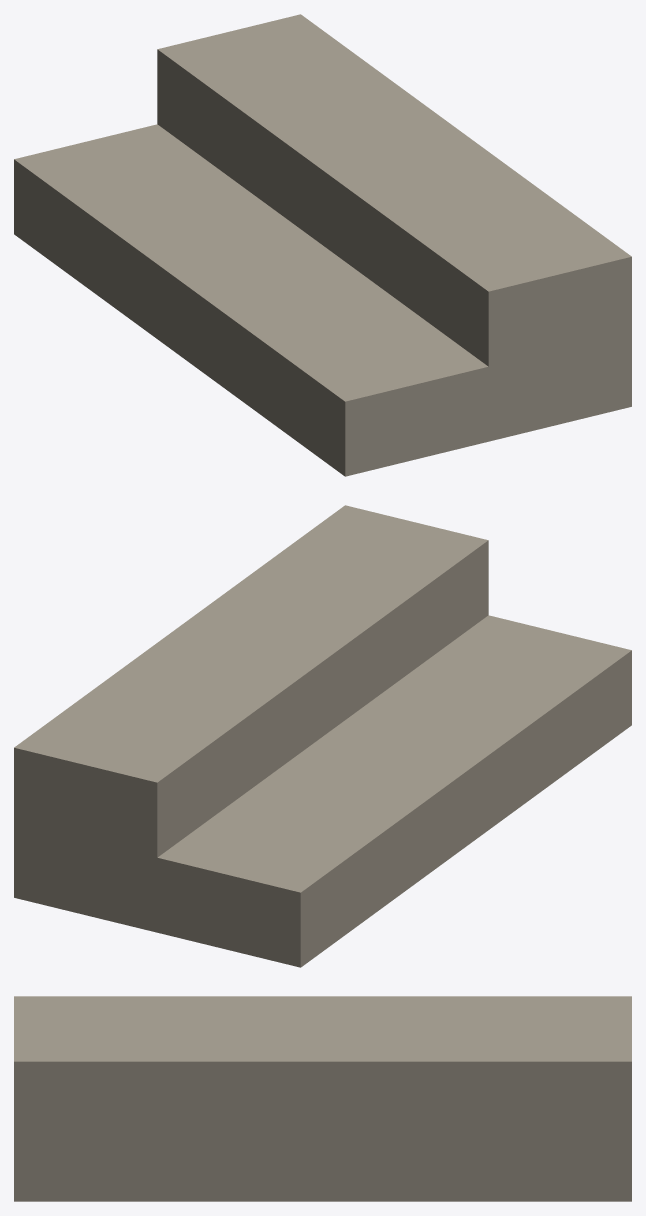
3 renders of one model, top to bottom at view 1: azimuth 30°, elevation 25°; view 2: azimuth 150°, elevation 25°; view 3: azimuth 270°, elevation 25°, orthographic. The views are drawn at different scales.
Parts seen in each view (by area): view 1: village-low-entry-steps-01; view 2: village-low-entry-steps-01; view 3: village-low-entry-steps-01.
Part boxes in pixels (x1,y1,x2,y2): village-low-entry-steps-01: (14,14,631,476); village-low-entry-steps-01: (14,505,631,967); village-low-entry-steps-01: (14,996,631,1201).
Size of the model in its own units: 0.6 by 0.3 by 1.2.
